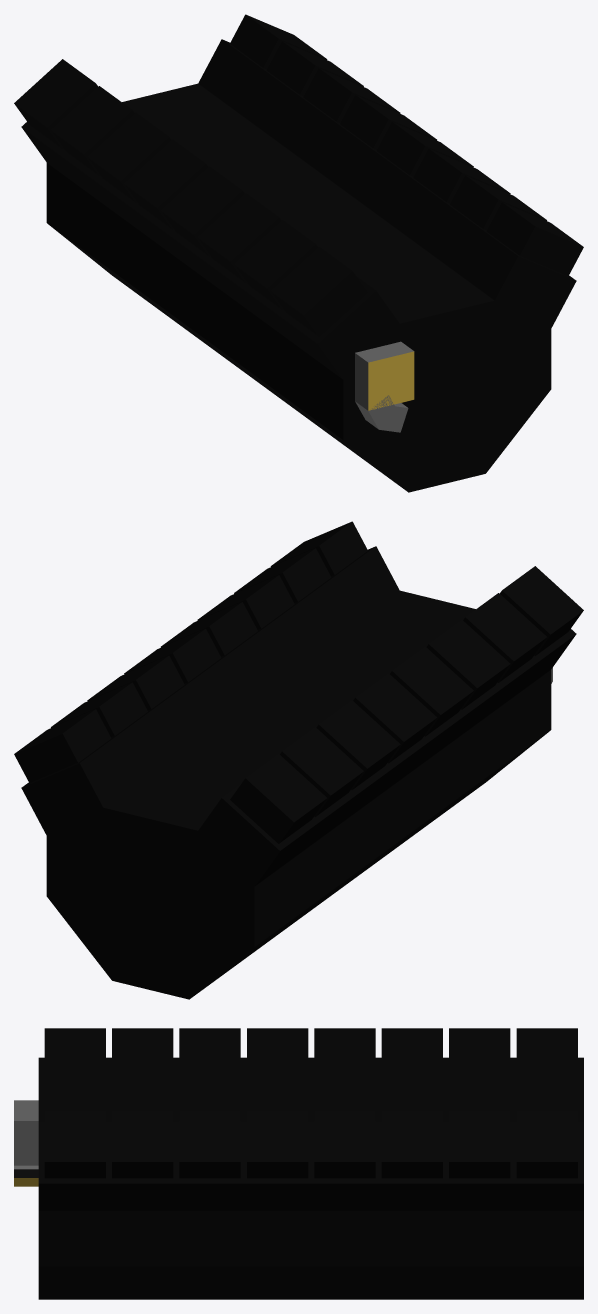
File: v96performanteturbo.obj
3 views of the same model, one above another, from view 1: azimuth 30°, elevation 25°; view 2: azimuth 150°, elevation 25°; view 3: azimuth 270°, elevation 25° (orthographic). The views are drawn at different scales.
Visible parts, largest first — view 1: cube, turbo; view 2: cube; view 3: cube, turbo.
Part boxes in pixels (<box>): cube: <box>14,14,583,492</box>; turbo: <box>355,341,414,432</box>; cube: <box>14,521,583,999</box>; cube: <box>38,1028,583,1299</box>; turbo: <box>14,1100,38,1186</box>.
Bounding box in the file's own units: 0.827 × 0.6543 × 1.58.
